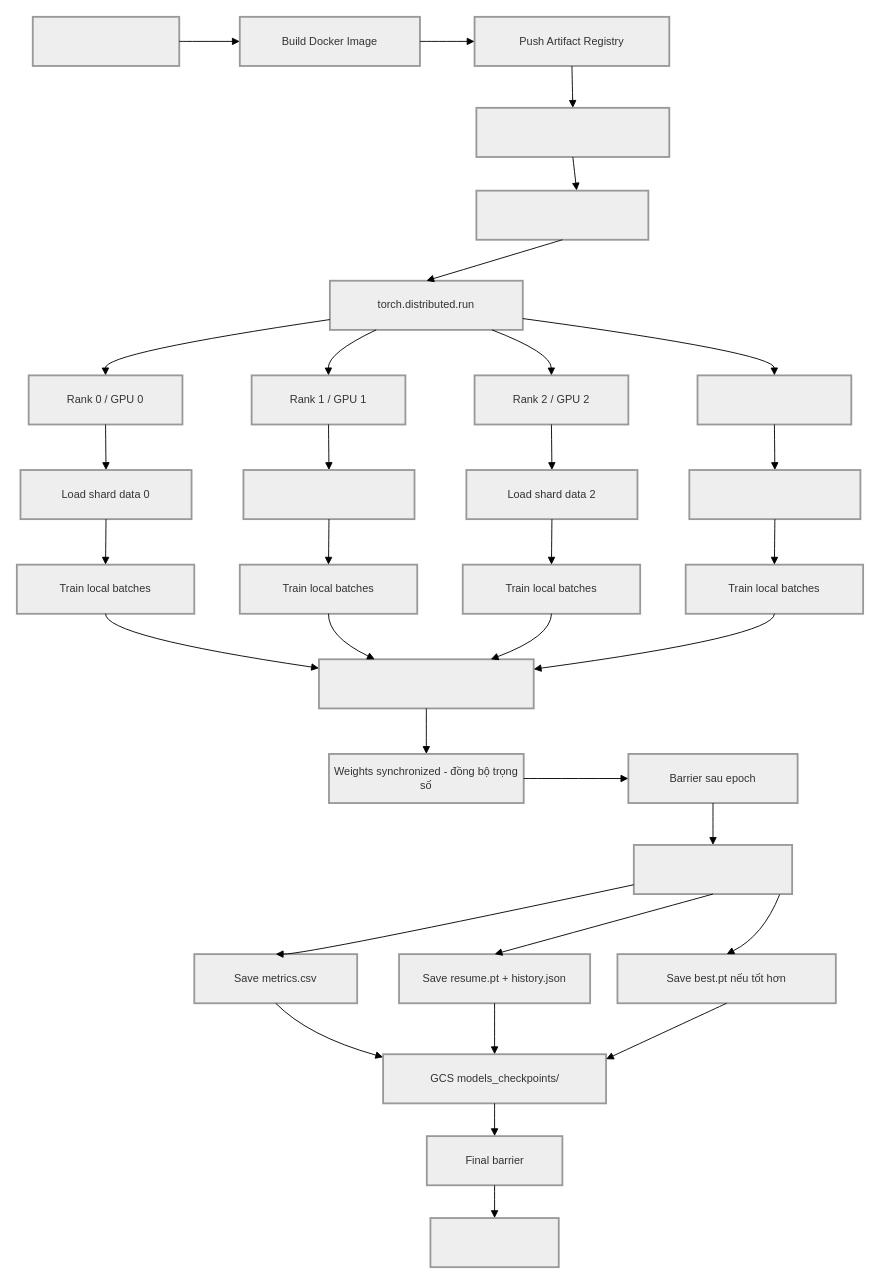
The diagram is 879 pixels wide and 1283 high, and some of its shapes have lost their labels. The centre of each missing label's shape, as x and y in pixels:
"DDP Gradient All-Reduce" belongs at (426,683).
"GPU 0 Evaluate Model sau khi train" belongs at (712,869).
"Load shard data 1" belongs at (328,494).
"Load shard data 3" belongs at (774,494).
"Next epoch" belongs at (494,1242).
"Pull Docker Image" belongs at (562,214).
"Rank 3 / GPU 3" belongs at (774,399).
"submit_job.sh" belongs at (105,40).
"Vertex AI Custom Job" belongs at (572,131).
